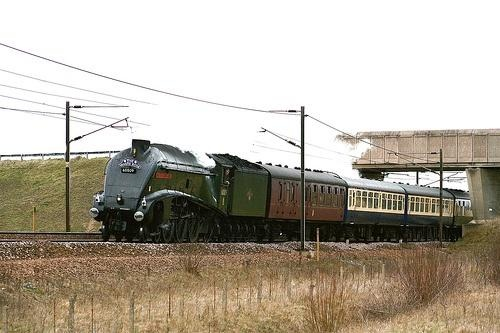train: (92, 139, 473, 243)
